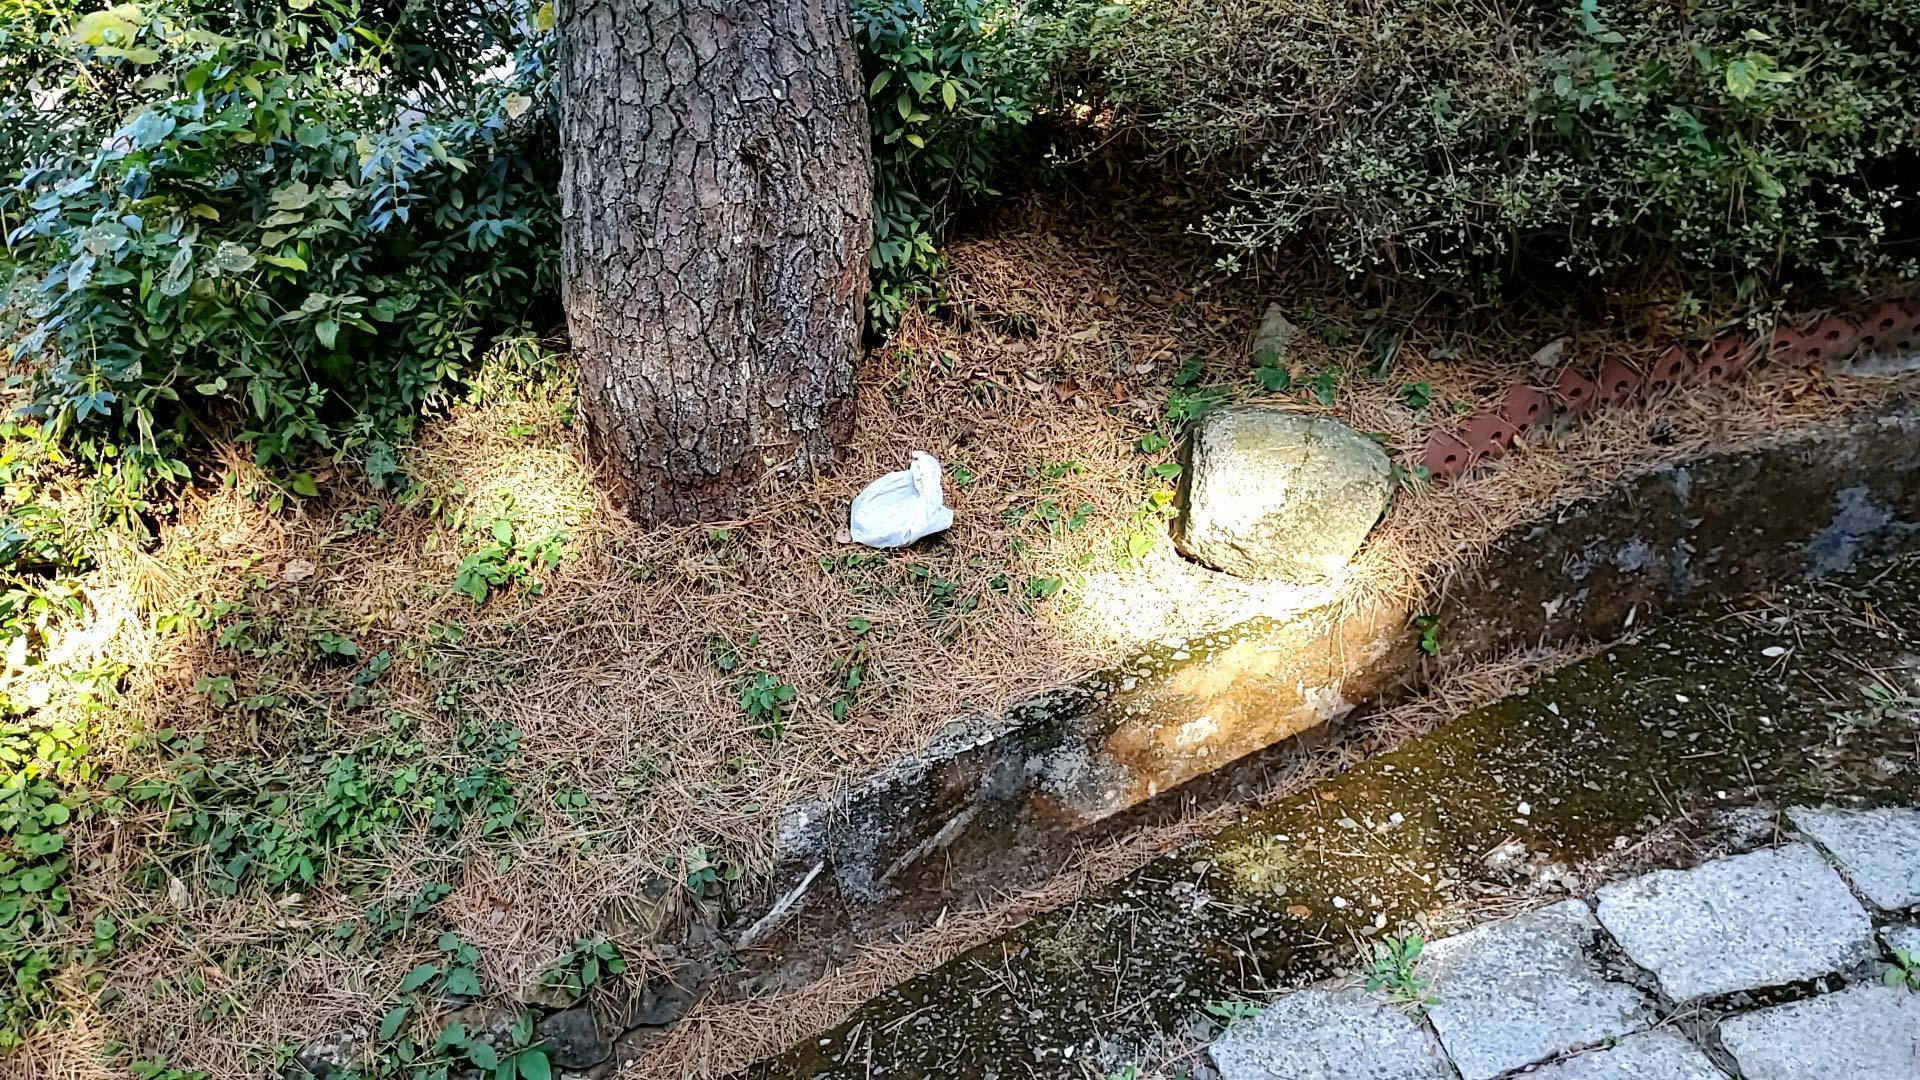white_bag: (833, 440, 971, 562)
